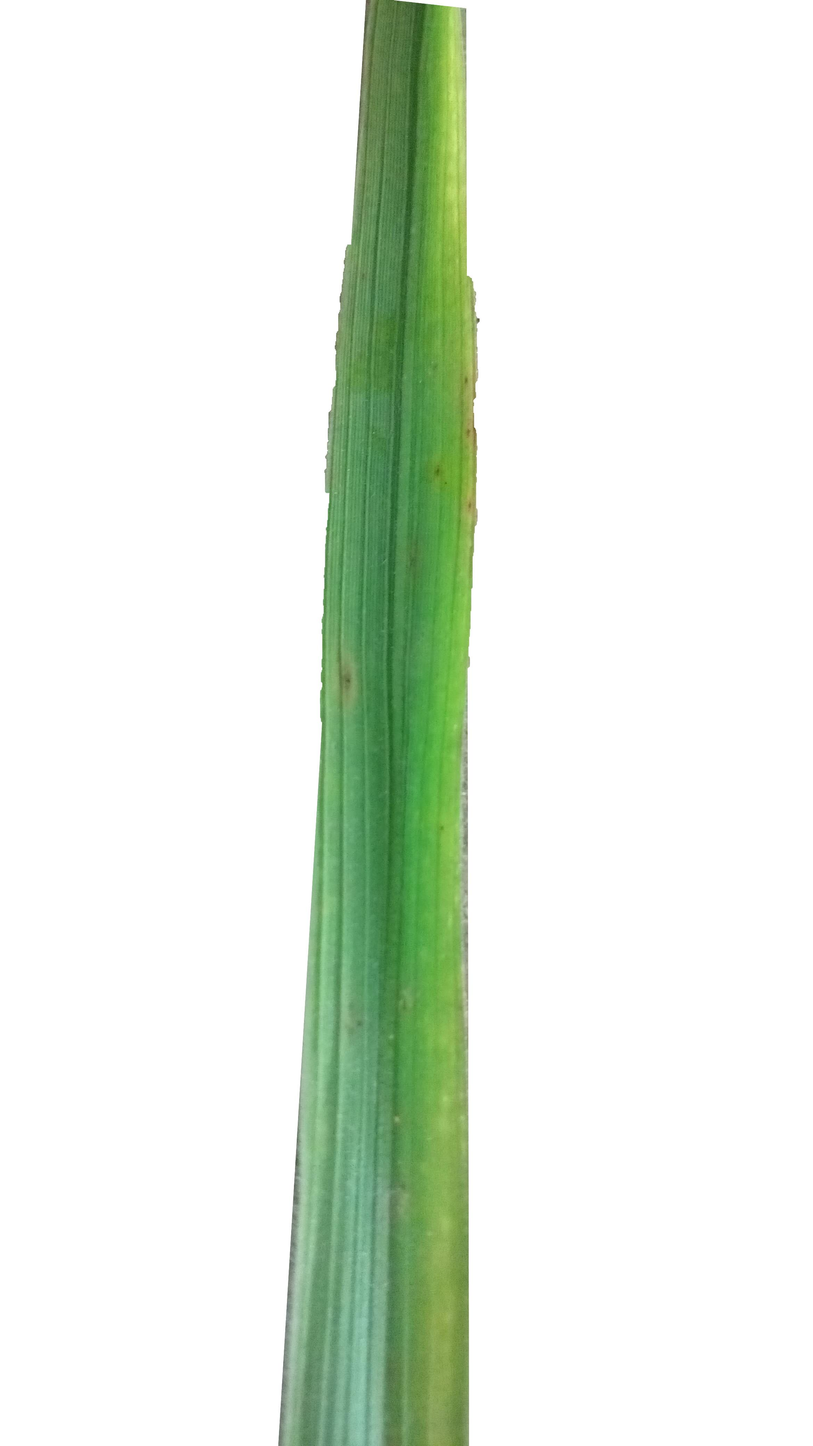Tungro: (361, 3, 490, 1446)
